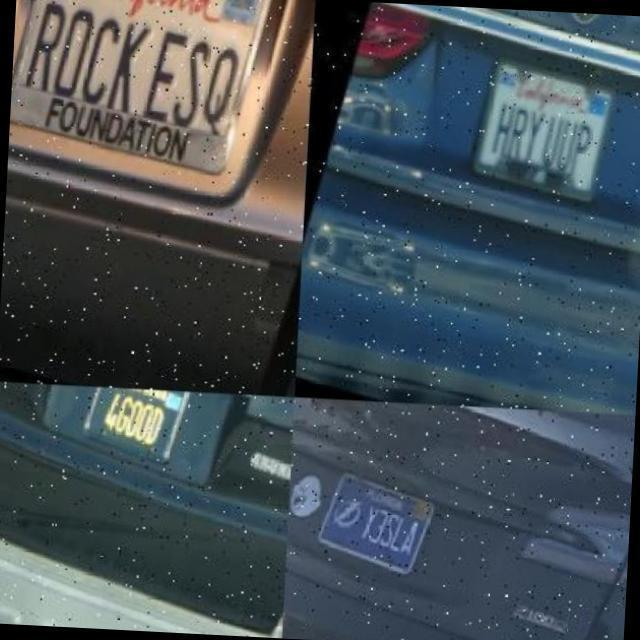license_plate: (8, 0, 272, 176), (471, 58, 623, 202), (315, 468, 438, 576), (79, 387, 201, 463)
